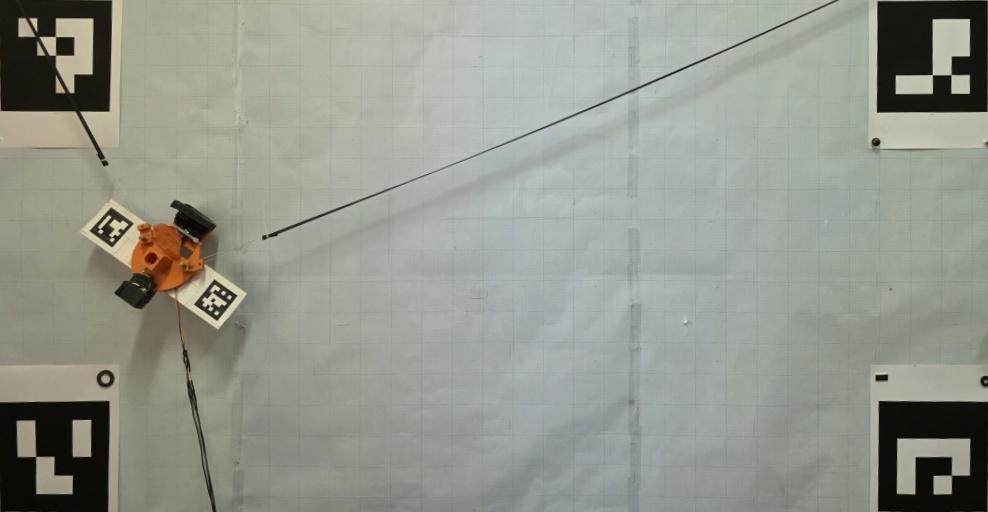robot: (114, 200, 217, 309)
